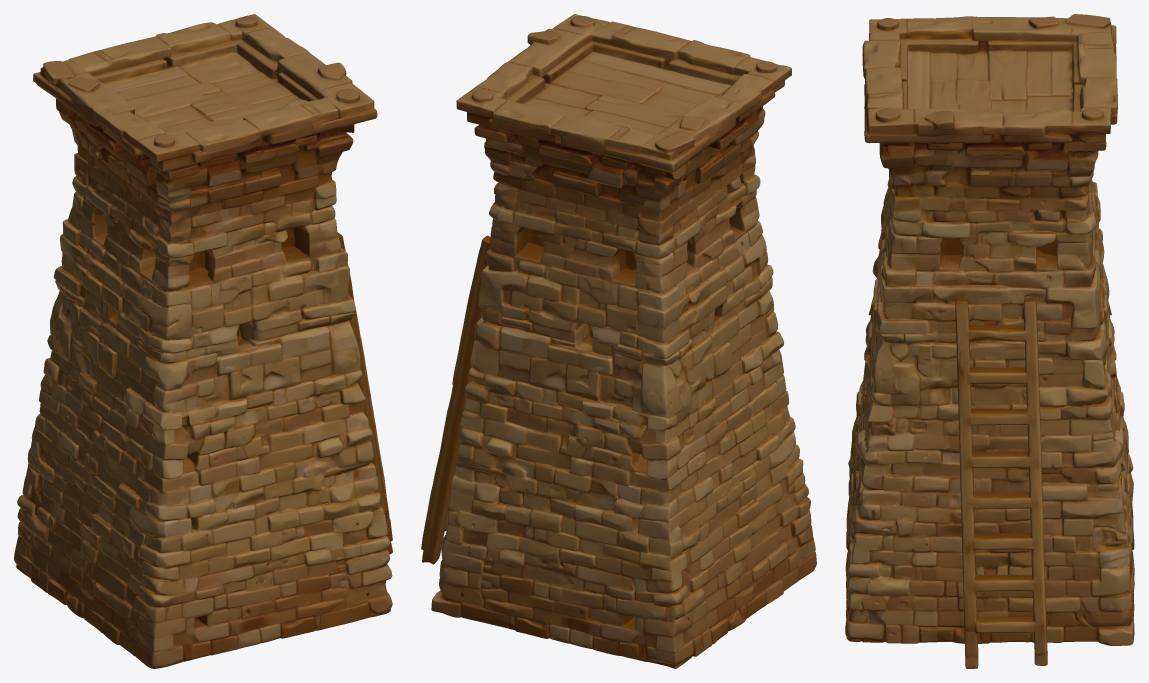
The model's file is برج_المراقبة.glb.
3 renders of one model, left to right at view 1: azimuth 30°, elevation 25°; view 2: azimuth 150°, elevation 25°; view 3: azimuth 270°, elevation 25°, orthographic.
Visible parts, largest first — view 1: tripo_node_2a0282fa-4302-447b-a4b1-d38915c0c340; view 2: tripo_node_2a0282fa-4302-447b-a4b1-d38915c0c340; view 3: tripo_node_2a0282fa-4302-447b-a4b1-d38915c0c340.
Boxes of the visible parts, left/top/right/bottom form: tripo_node_2a0282fa-4302-447b-a4b1-d38915c0c340: left=14, top=14, right=392, bottom=668; tripo_node_2a0282fa-4302-447b-a4b1-d38915c0c340: left=421, top=14, right=816, bottom=668; tripo_node_2a0282fa-4302-447b-a4b1-d38915c0c340: left=845, top=14, right=1134, bottom=668.
Size of the model in its own units: 0.4292 by 0.7 by 0.353.
Materials: 1 (1 with a texture image).
